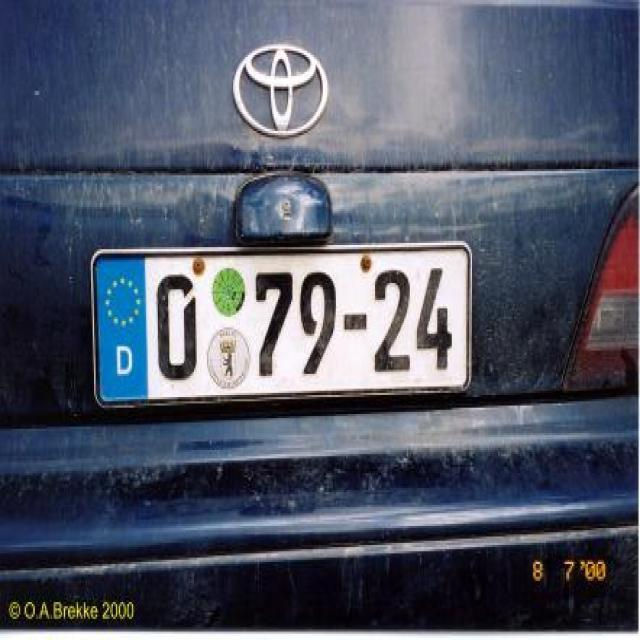License_Plate: (89, 244, 474, 401)
